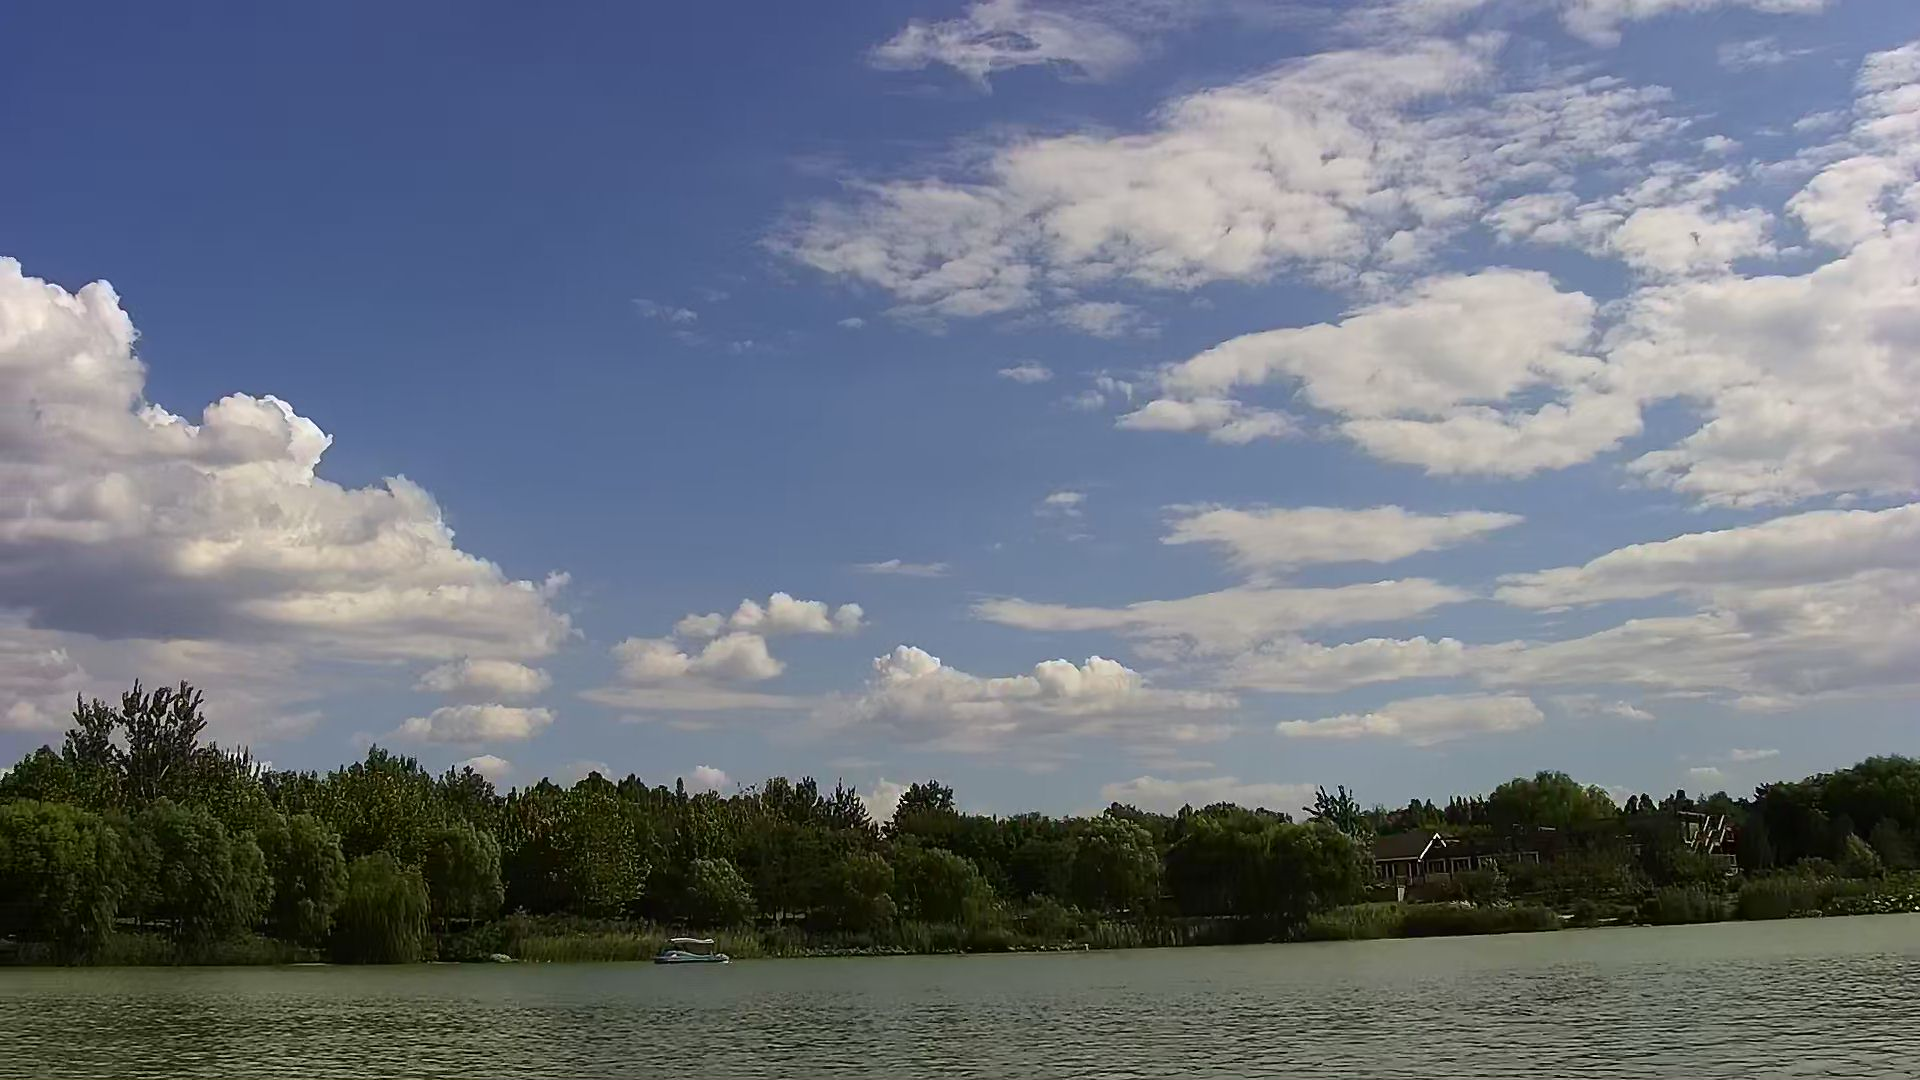boat: (649, 927, 738, 975)
